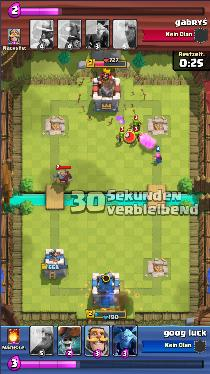ally_archer: (152, 151, 163, 162)
ally_arrow: (78, 71, 146, 123)
enemy_goblin: (116, 130, 127, 142), (129, 118, 141, 129), (133, 130, 141, 142)
enemy_knight: (51, 168, 72, 184)
